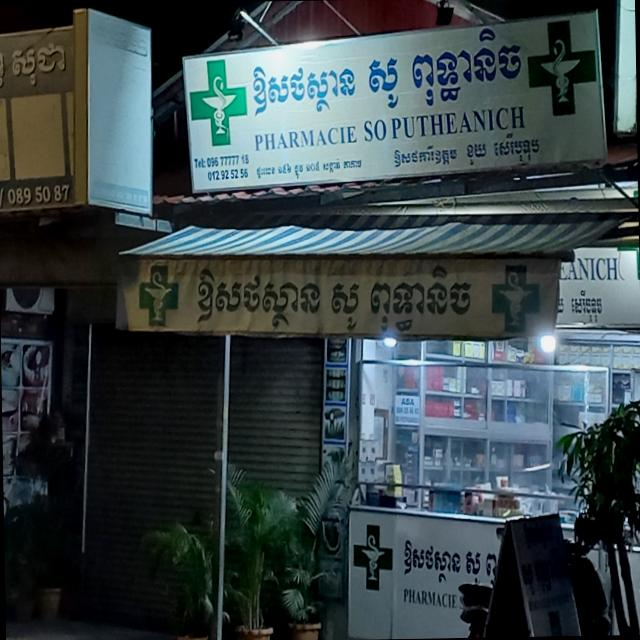2: (246, 23, 530, 132), (188, 258, 479, 338), (389, 128, 544, 175), (254, 154, 364, 181)
283: (206, 165, 250, 178)
424: (5, 181, 71, 206)
467: (204, 153, 253, 167)
Yolov11_80vkh: (398, 538, 465, 584), (8, 40, 68, 89), (568, 286, 618, 324)
